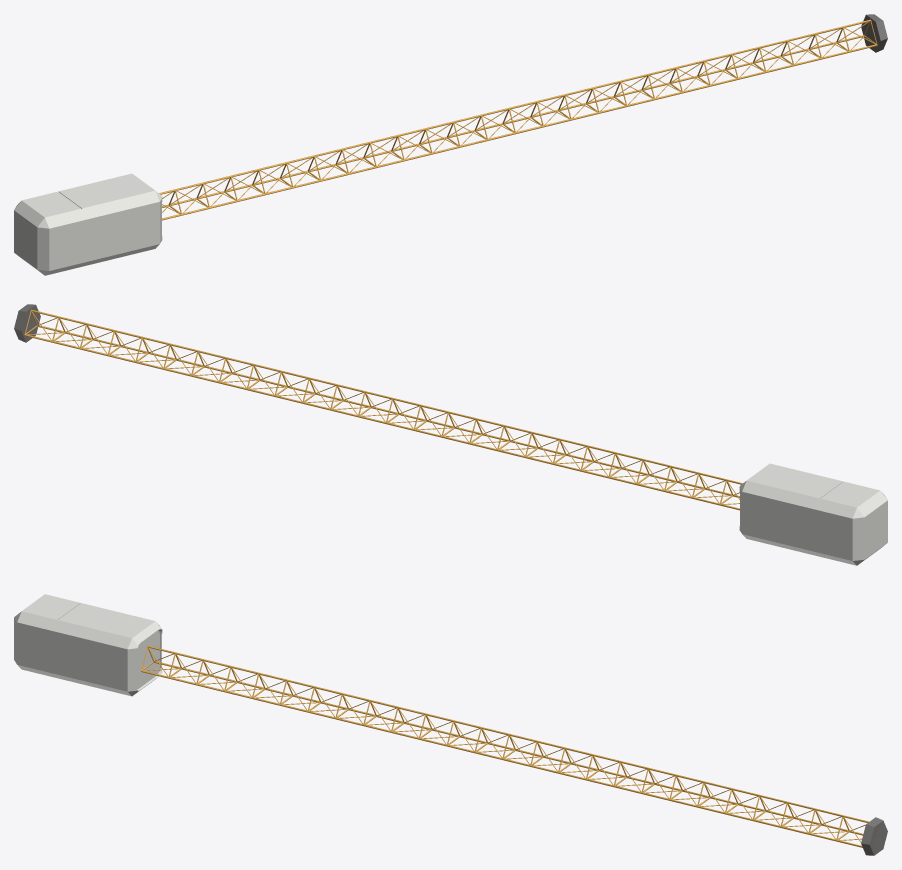
Rendered from ax_gear_12_deployable_boom_m_deployed.glb.
3 renders of one model, top to bottom at view 1: azimuth 30°, elevation 25°; view 2: azimuth 150°, elevation 25°; view 3: azimuth 330°, elevation 25°, orthographic.
Parts seen in each view (by area): view 1: boom_canister, boom_lattice, boom_tip; view 2: boom_canister, boom_lattice, boom_tip; view 3: boom_canister, boom_lattice, boom_tip.
Part boxes in pixels (x1,y1,x2,y2): boom_canister: [14, 173, 162, 275]; boom_lattice: [159, 19, 877, 220]; boom_tip: [861, 14, 887, 52]; boom_canister: [739, 463, 887, 565]; boom_lattice: [24, 309, 742, 510]; boom_tip: [14, 304, 40, 342]; boom_canister: [14, 594, 162, 696]; boom_lattice: [141, 645, 868, 847]; boom_tip: [861, 817, 887, 855].
Bounding box in the file's own units: 9.44 × 0.616 × 0.616.
Materials: 3 (2 with a texture image).
